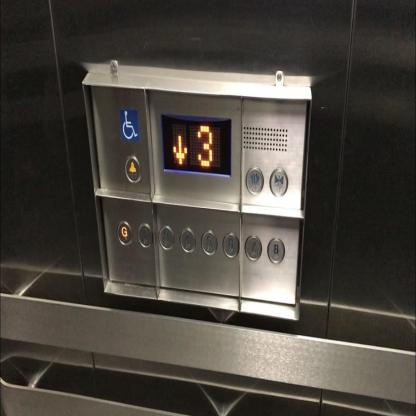2: (137, 222, 153, 248)
3: (158, 224, 174, 251)
4: (180, 227, 196, 254)
5: (200, 229, 218, 256)
6: (222, 232, 240, 258)
7: (243, 234, 262, 261)
8: (267, 236, 285, 264)
CH: (119, 106, 140, 142)
G: (116, 218, 133, 247)
alarm: (124, 154, 141, 185)
close: (269, 166, 288, 198)
led: (159, 110, 232, 178)
open: (245, 165, 264, 196)
